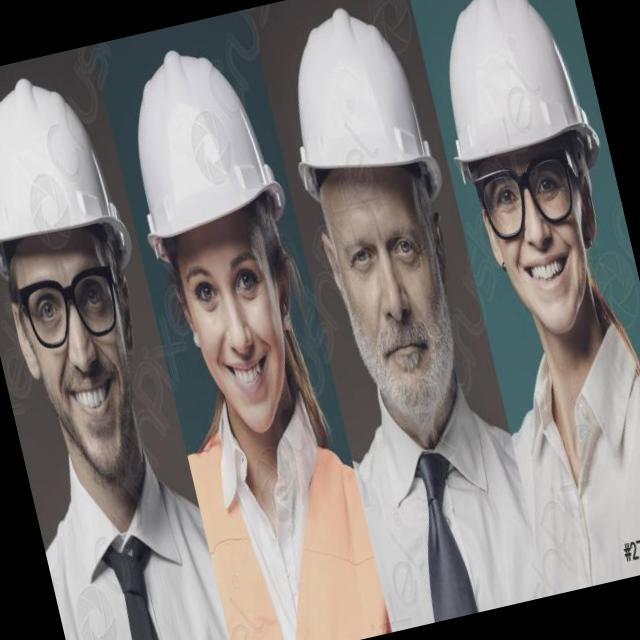Helmet: (105, 30, 297, 264), (266, 0, 443, 213), (414, 0, 602, 177), (0, 67, 134, 292)
